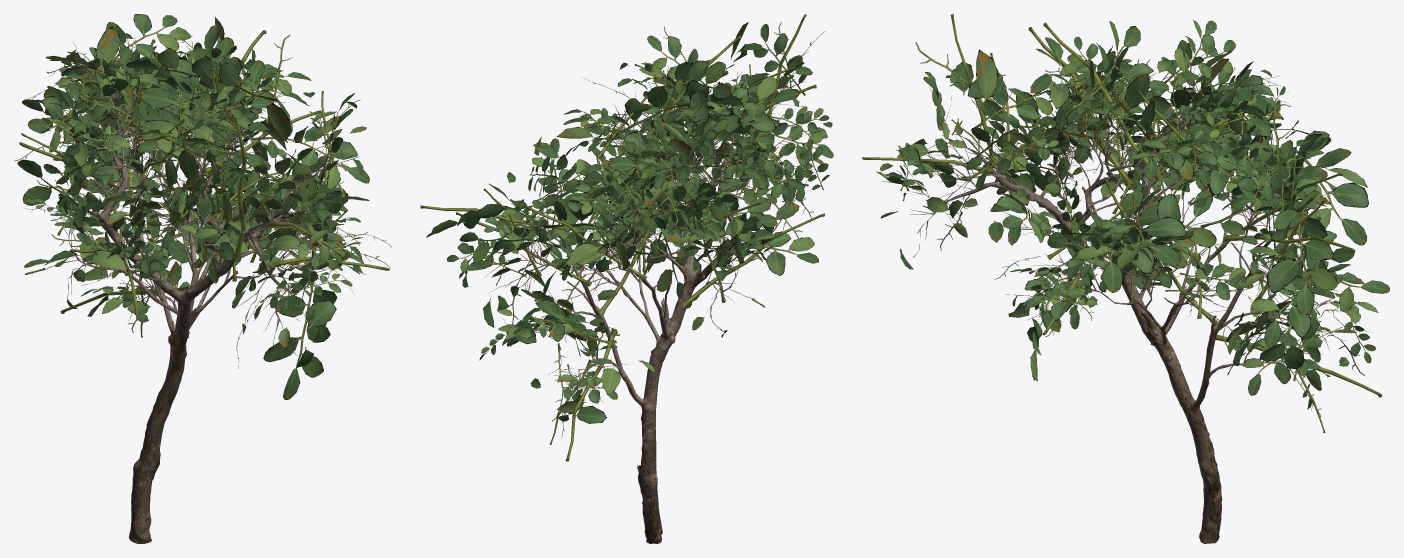
3 renders of one model, left to right at view 1: azimuth 30°, elevation 25°; view 2: azimuth 150°, elevation 25°; view 3: azimuth 270°, elevation 25°, orthographic. The views are drawn at different scales.
Visible parts, largest first — view 1: tree_small_02_LOD0.002, tree_small_02_LOD0, tree_small_02_LOD0.001; view 2: tree_small_02_LOD0.002, tree_small_02_LOD0, tree_small_02_LOD0.001; view 3: tree_small_02_LOD0.002, tree_small_02_LOD0, tree_small_02_LOD0.001.
Part boxes in pixels (<box>): tree_small_02_LOD0.002: <box>14,14,391,399</box>; tree_small_02_LOD0: <box>87,153,282,543</box>; tree_small_02_LOD0.001: <box>32,35,359,355</box>; tree_small_02_LOD0.002: <box>420,14,833,461</box>; tree_small_02_LOD0: <box>563,147,746,543</box>; tree_small_02_LOD0.001: <box>482,60,819,402</box>; tree_small_02_LOD0.002: <box>862,14,1389,432</box>; tree_small_02_LOD0: <box>984,125,1254,543</box>; tree_small_02_LOD0.001: <box>882,53,1357,382</box>.
Size of the model in its own units: 3.47 by 4.8 by 4.5.
3 materials, 3 textured.
